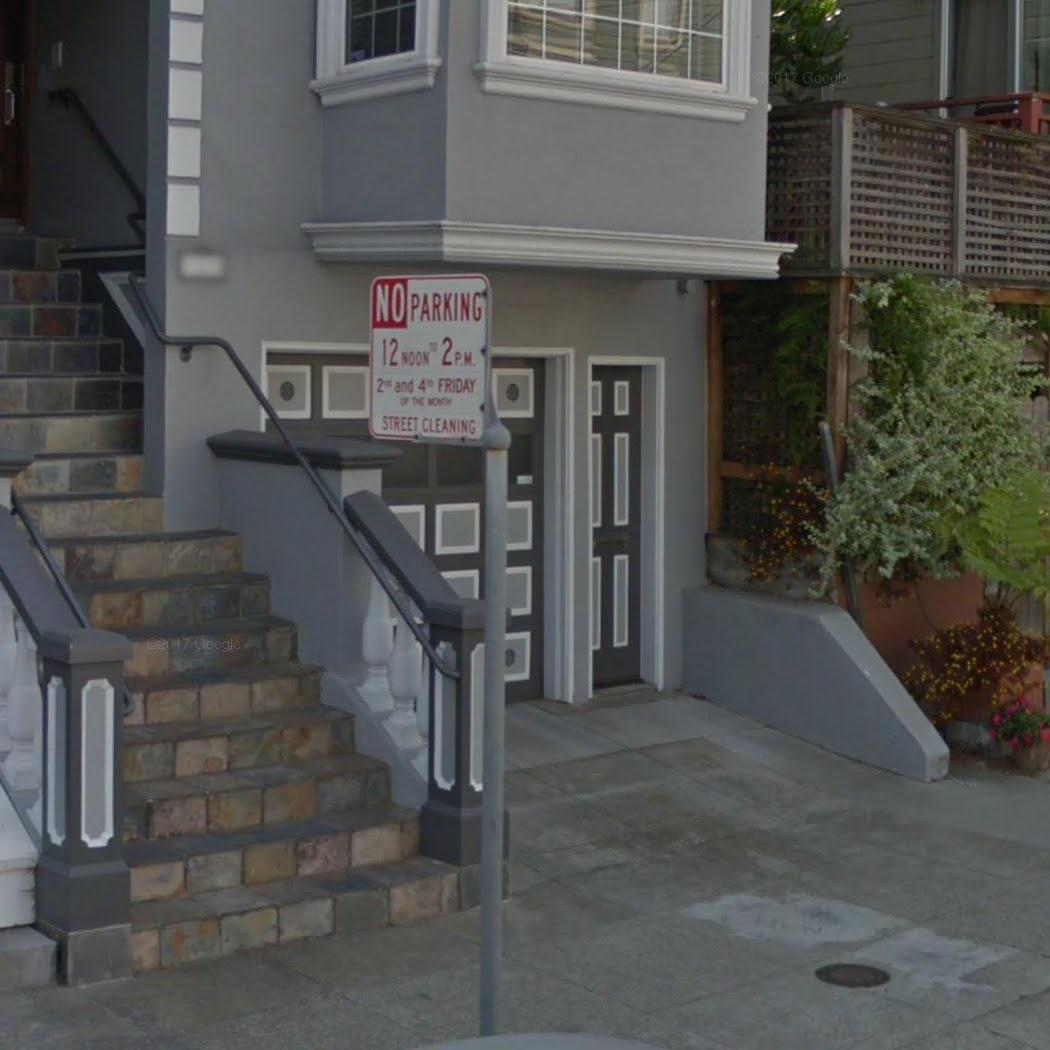No Parking: (365, 272, 492, 445)
